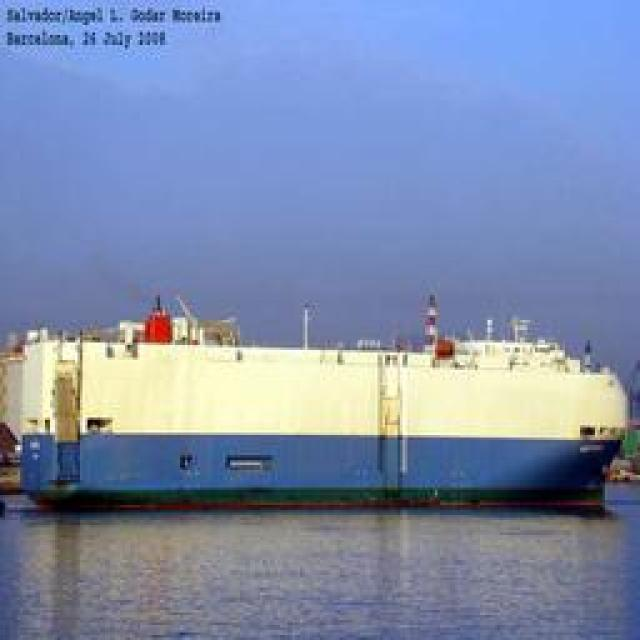ship2: (0, 297, 634, 513)
